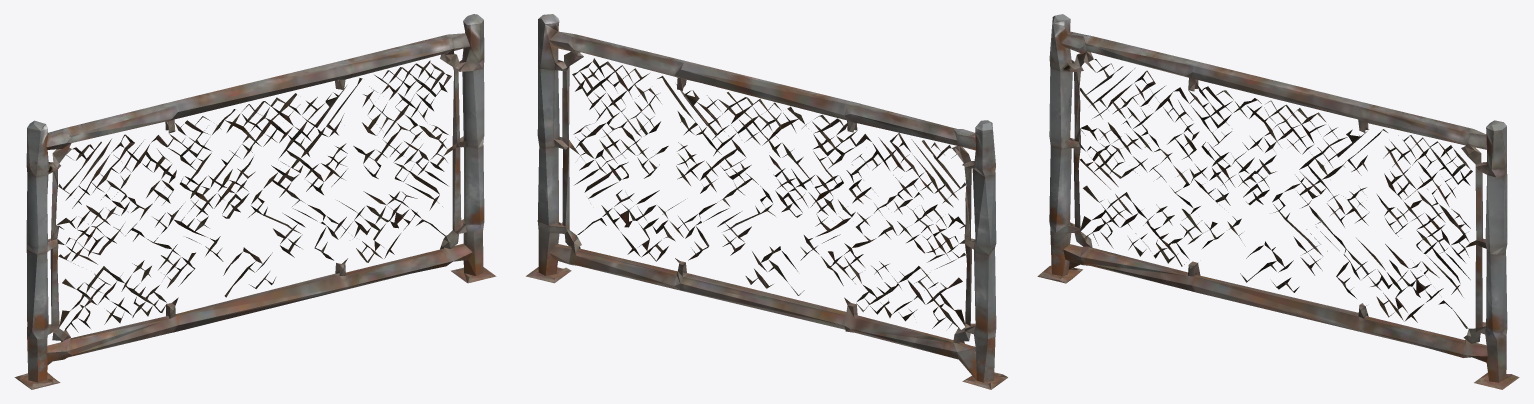
File: fence_chainlink.glb
The picture shows the model from 3 angles, left to right: view 1: azimuth 30°, elevation 25°; view 2: azimuth 150°, elevation 25°; view 3: azimuth 330°, elevation 25°; orthographic projection.
Parts seen in each view (by area): view 1: Mesh_0; view 2: Mesh_0; view 3: Mesh_0.
Boxes of the visible parts, bbox=[...] form: Mesh_0: bbox=[14, 14, 496, 389]; Mesh_0: bbox=[526, 14, 1007, 389]; Mesh_0: bbox=[1037, 14, 1519, 389].
Size of the model in its own units: 1.9 by 1.01 by 0.1222.
1 material, 1 textured.
